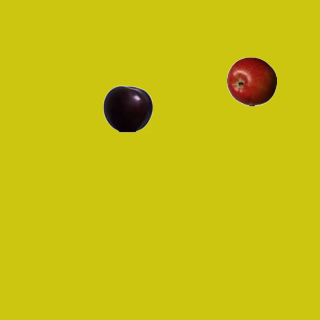Apple Braeburn: (226, 56, 276, 106)
Cherry Wax Black: (102, 83, 152, 133)
